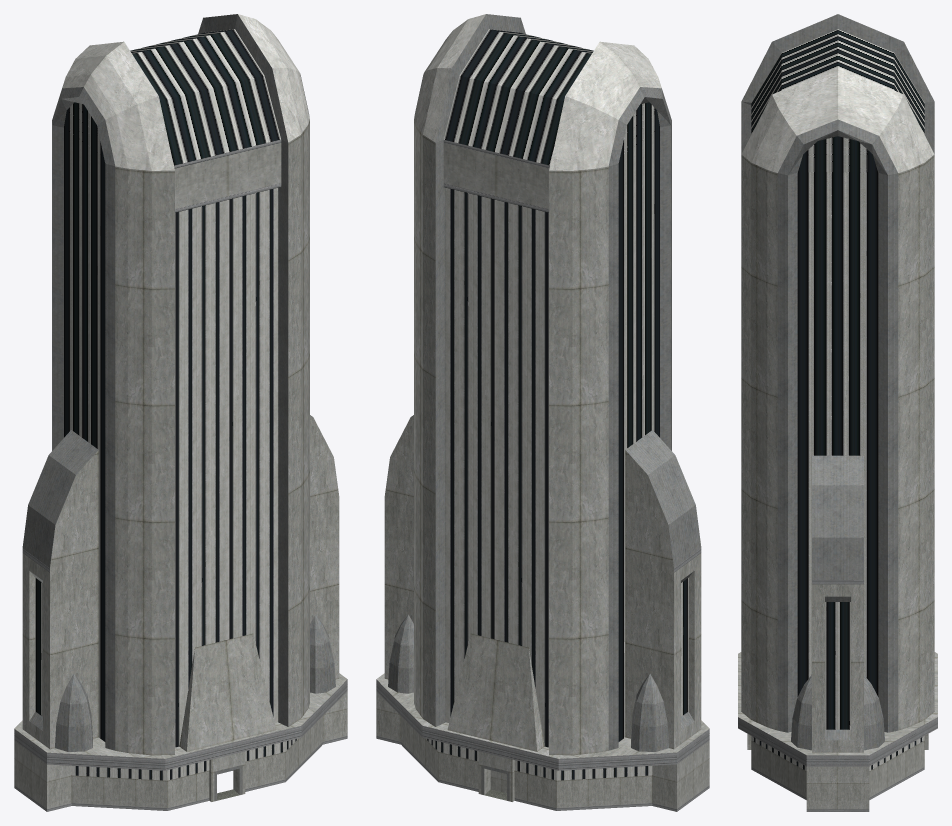
File: thm_corl_skyskraper_s03_r0_mesh_l1.fbx
3 views of the same model, side by side, from view 1: azimuth 30°, elevation 25°; view 2: azimuth 150°, elevation 25°; view 3: azimuth 270°, elevation 25° (orthographic). The views are drawn at different scales.
Visible parts, largest first — view 1: mesh_node; view 2: mesh_node; view 3: mesh_node.
Boxes of the visible parts, left/top/right/bottom form: mesh_node: left=14, top=14, right=347, bottom=811; mesh_node: left=376, top=14, right=709, bottom=811; mesh_node: left=738, top=14, right=937, bottom=811.
Size of the model in its own units: 60.95 by 142 by 36.8.
